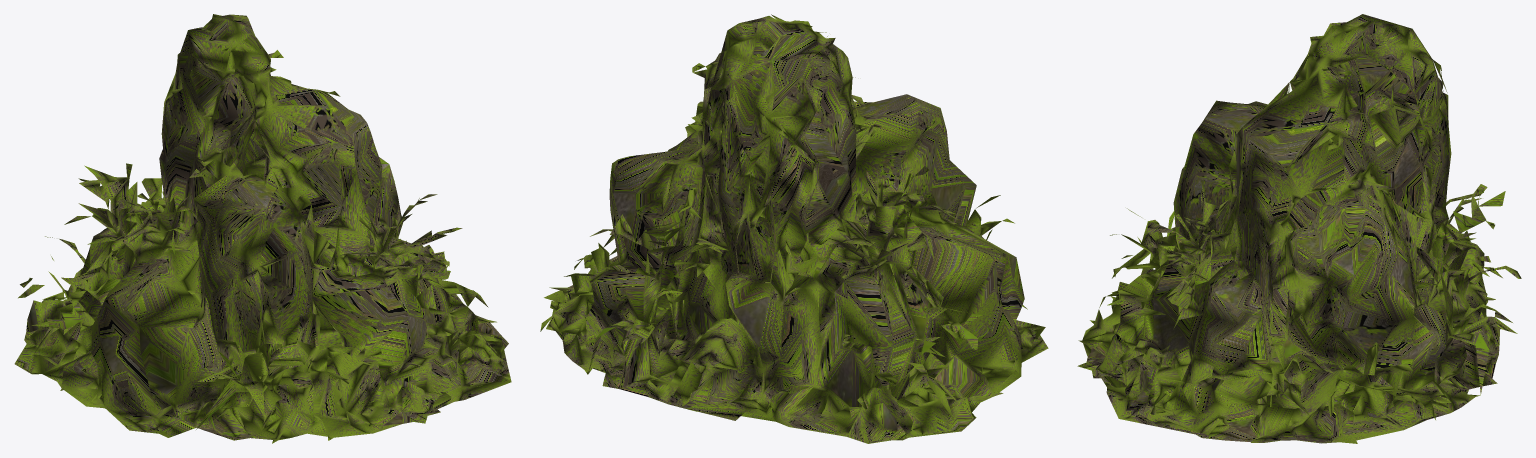
Rendered from Stone_Sanctua.lod.rt.glb.
3 views of the same model, side by side, from view 1: azimuth 30°, elevation 25°; view 2: azimuth 150°, elevation 25°; view 3: azimuth 270°, elevation 25° (orthographic). The views are drawn at different scales.
Parts seen in each view (by area): view 1: output_unwrapped; view 2: output_unwrapped; view 3: output_unwrapped.
Part boxes in pixels (box(x1,y1,x2,y2)): output_unwrapped: box(14, 14, 511, 443); output_unwrapped: box(540, 14, 1048, 443); output_unwrapped: box(1077, 14, 1521, 443).
Bounding box in the file's own units: 1.84 × 1.34 × 1.7.
1 material, 1 textured.
